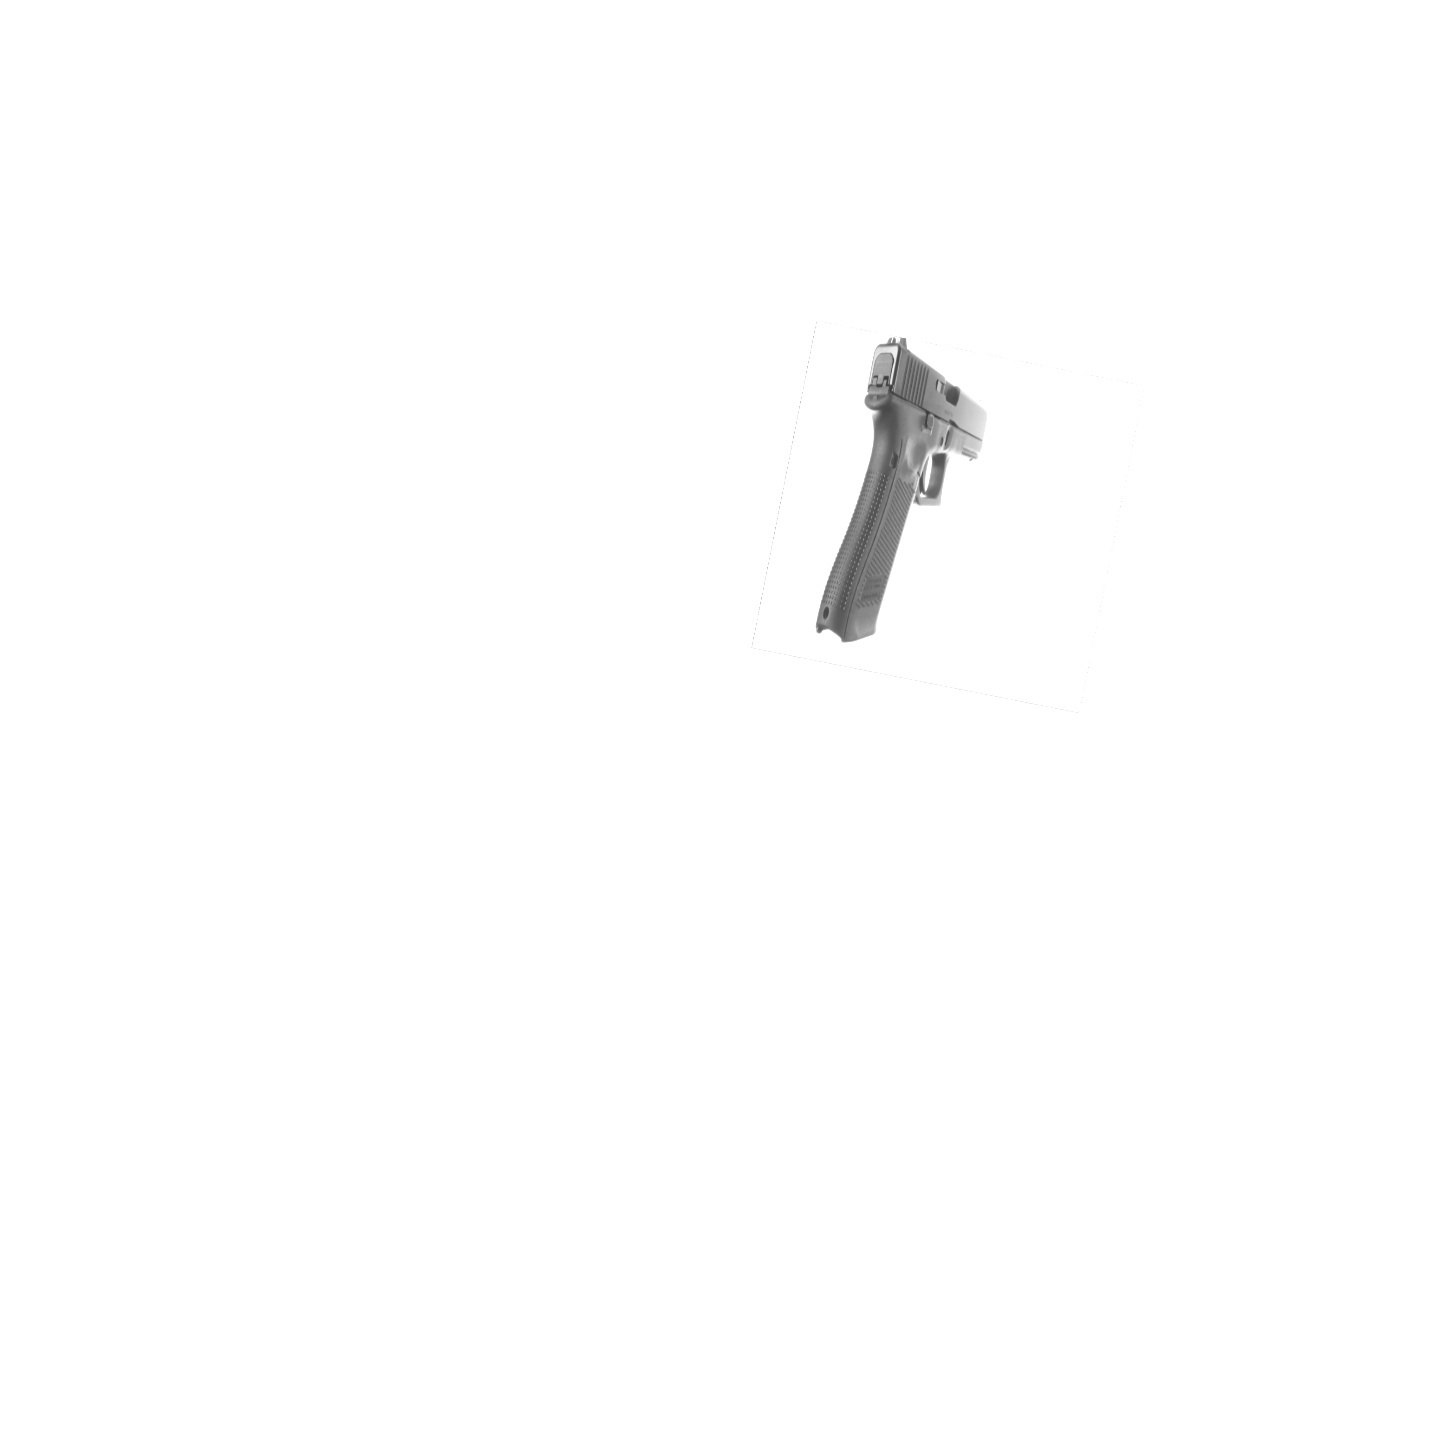gun: (805, 334, 996, 647)
